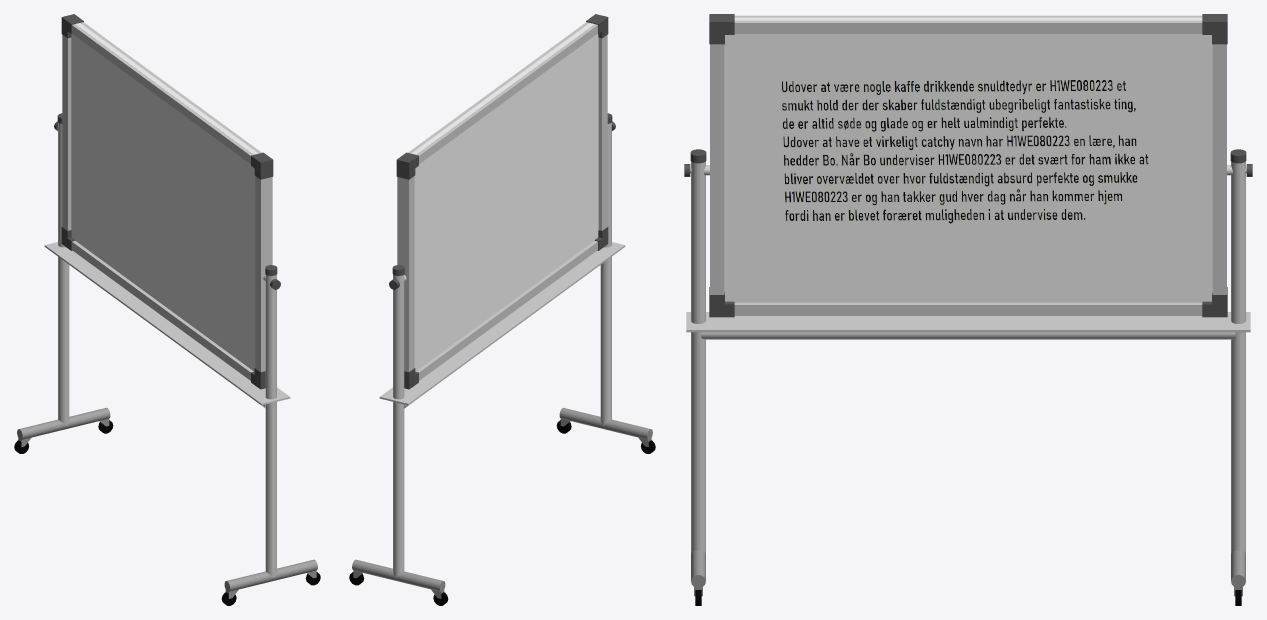
File: Holdbeskrivelse.glb
3 renders of one model, left to right at view 1: azimuth 30°, elevation 25°; view 2: azimuth 150°, elevation 25°; view 3: azimuth 270°, elevation 25°, orthographic. The views are drawn at different scales.
Visible parts, largest first — view 1: Backboard, Side Stands, Sideboards (Top and Bottom), Sideboards (Left and Right), Marker Holder, Bottom Stands, Corner Vertical, Wheel, Corner Horizontal; view 2: Backboard, Side Stands, Sideboards (Top and Bottom), Sideboards (Left and Right), Marker Holder, Bottom Stands, Corner Vertical, Wheel, Corner Horizontal; view 3: Backboard, Sideboards (Top and Bottom), Side Stands, Marker Holder, Sideboards (Left and Right), Undercarraige, Corner Vertical, Bottom Stands, Corner Horizontal.
Boxes of the visible parts, <box> form: Backboard: <box>71,23,258,371</box>; Side Stands: <box>58,122,276,577</box>; Sideboards (Top and Bottom): <box>72,22,261,380</box>; Sideboards (Left and Right): <box>62,35,272,371</box>; Marker Holder: <box>44,242,290,405</box>; Bottom Stands: <box>17,407,317,591</box>; Corner Vertical: <box>61,14,273,389</box>; Wheel: <box>14,420,320,605</box>; Corner Horizontal: <box>64,16,269,387</box>; Backboard: <box>411,23,598,371</box>; Side Stands: <box>393,122,611,577</box>; Sideboards (Top and Bottom): <box>408,22,597,380</box>; Sideboards (Left and Right): <box>397,35,607,371</box>; Marker Holder: <box>379,242,625,405</box>; Bottom Stands: <box>352,407,652,591</box>; Corner Vertical: <box>396,14,608,389</box>; Wheel: <box>349,420,655,605</box>; Corner Horizontal: <box>400,16,605,387</box>; Backboard: <box>724,17,1212,302</box>; Sideboards (Top and Bottom): <box>734,15,1202,315</box>; Side Stands: <box>691,161,1245,552</box>; Marker Holder: <box>686,312,1250,332</box>; Sideboards (Left and Right): <box>710,44,1226,294</box>; Undercarraige: <box>701,332,1235,339</box>; Corner Vertical: <box>709,14,1227,317</box>; Bottom Stands: <box>691,550,1245,588</box>; Corner Horizontal: <box>717,14,1219,317</box>.
Bounding box in the file's own units: 0.8209 × 3.5 × 3.21.
Materials: 15 (1 with a texture image).
